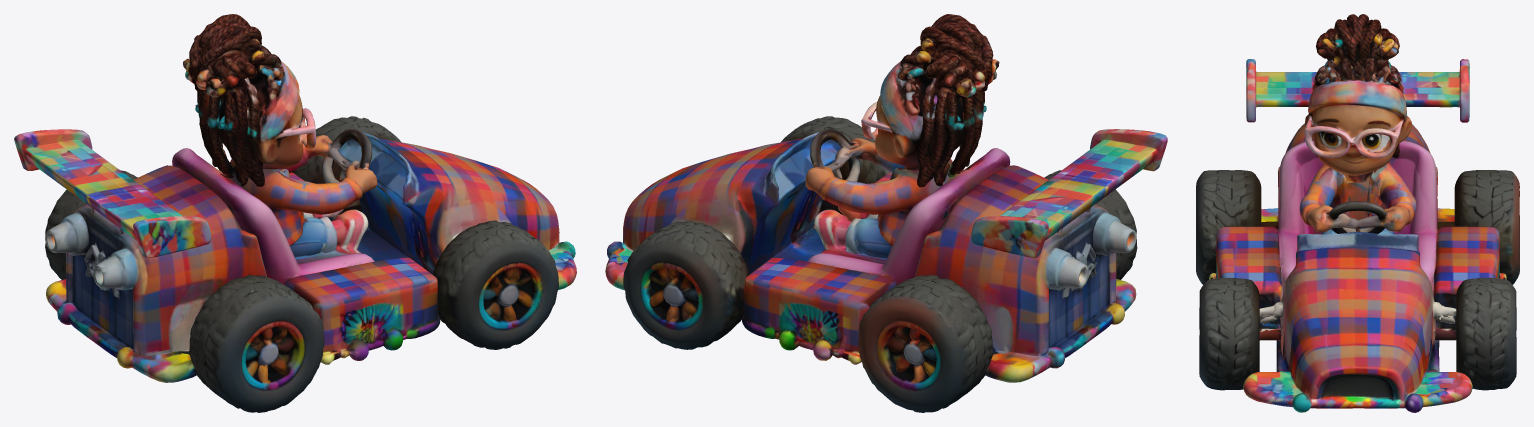
The model's file is rochelle _racer.fbx.
3 renders of one model, left to right at view 1: azimuth 30°, elevation 25°; view 2: azimuth 150°, elevation 25°; view 3: azimuth 270°, elevation 25°, orthographic. The views are drawn at different scales.
Visible parts, largest first — view 1: tripo_node_f89fc86f; view 2: tripo_node_f89fc86f; view 3: tripo_node_f89fc86f.
Boxes of the visible parts, x1,y1,x2,y2 form: tripo_node_f89fc86f: [14, 14, 576, 412]; tripo_node_f89fc86f: [605, 14, 1167, 412]; tripo_node_f89fc86f: [1196, 14, 1519, 412].
Bounding box in the file's own units: 1 × 0.6447 × 0.6675.
Materials: 1 (1 with a texture image).
